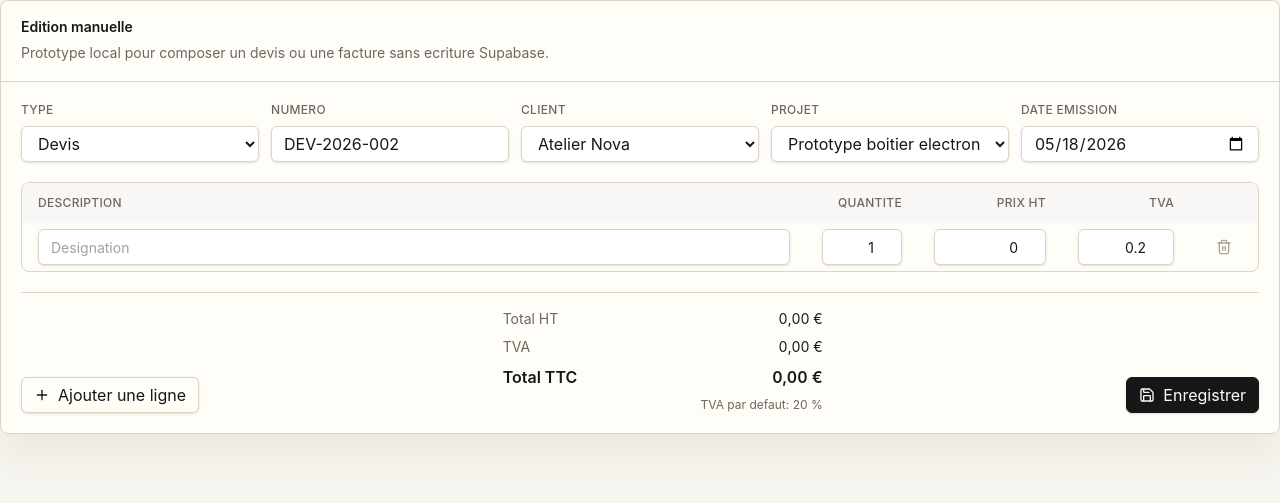
it: DocumentEditor › does not save a document when the line data is invalid
This screenshot has width=1280, height=503.
Click the button "Enregistrer".
click(1193, 395)  # box [1126,377,1259,413]
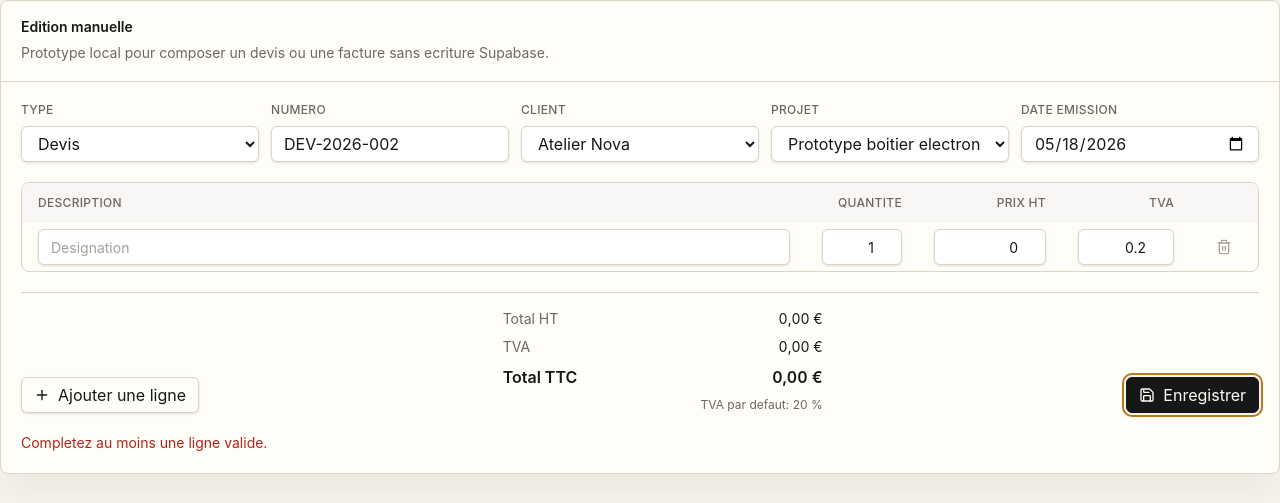
Now the text "Completez au moins une ligne valide." is shown, box [21,434,267,451]
